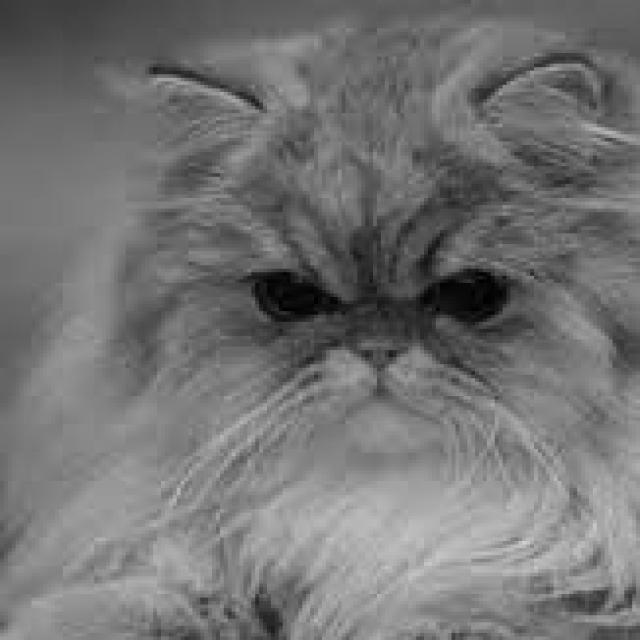iran: (47, 0, 640, 527)
